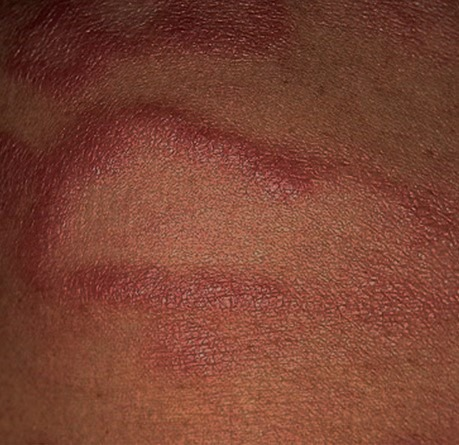Leprosy: (0, 95, 456, 343), (0, 0, 315, 90)
